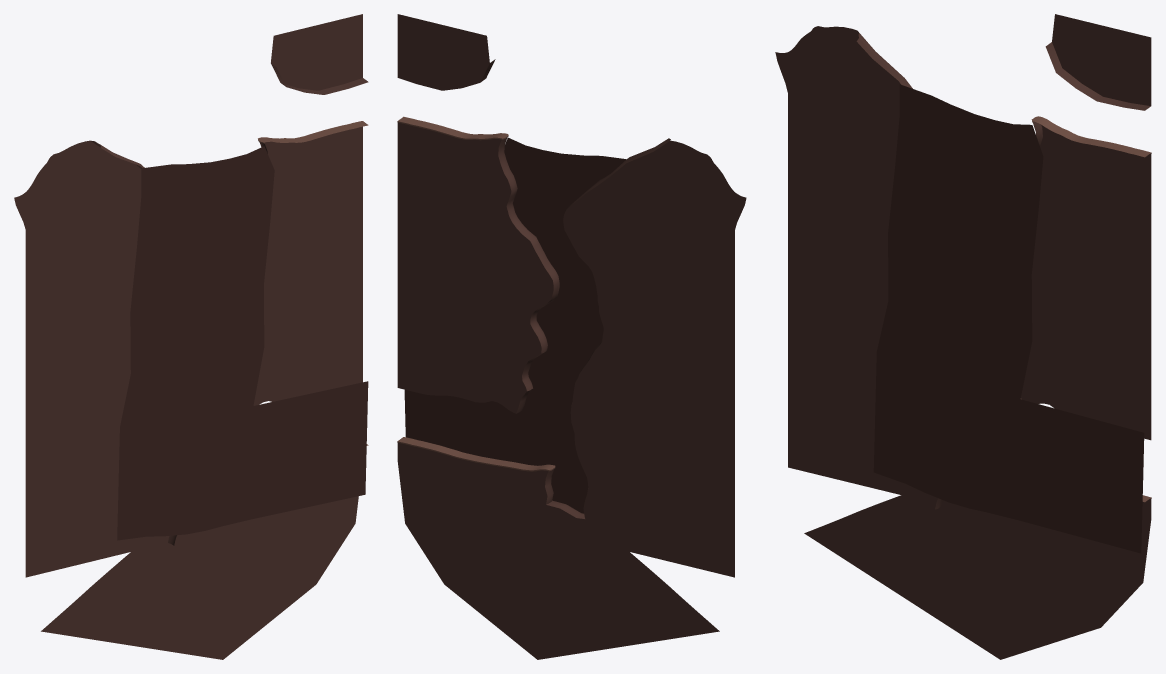
The model's file is Ground_Level 2.fbx.
The picture shows the model from 3 angles, left to right: view 1: azimuth 30°, elevation 25°; view 2: azimuth 150°, elevation 25°; view 3: azimuth 330°, elevation 25°; orthographic projection. The views are drawn at different scales.
Parts seen in each view (by area): view 1: Ground_Level 2; view 2: Ground_Level 2; view 3: Ground_Level 2.
Boxes of the visible parts, x1,y1,x2,y2 form: Ground_Level 2: [14, 14, 368, 659]; Ground_Level 2: [397, 14, 746, 659]; Ground_Level 2: [775, 14, 1151, 659].
Bounding box in the file's own units: 6842 × 11468 × 210.
Materials: 1 (1 with a texture image).
